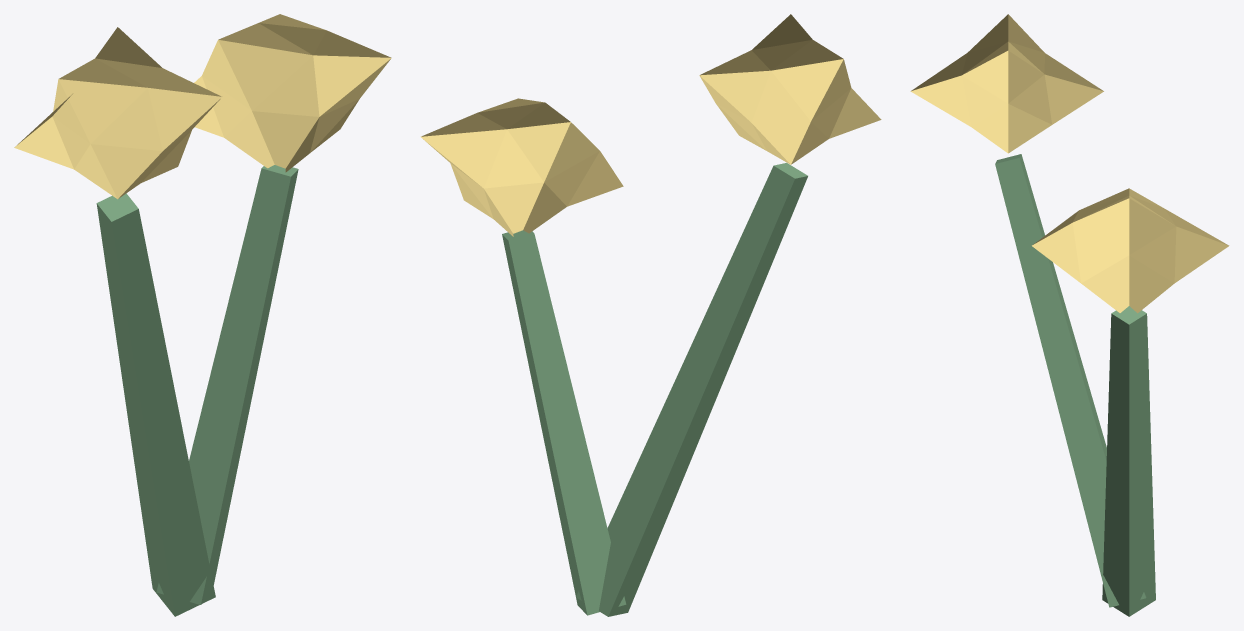
Rendered from flower_v20.glb.
3 renders of one model, left to right at view 1: azimuth 30°, elevation 25°; view 2: azimuth 150°, elevation 25°; view 3: azimuth 270°, elevation 25°, orthographic. The views are drawn at different scales.
Parts seen in each view (by area): view 1: lod0; view 2: lod0; view 3: lod0.
Boxes of the visible parts, x1,y1,x2,y2 form: lod0: (14, 14, 391, 616); lod0: (420, 14, 881, 616); lod0: (910, 14, 1229, 616).
Size of what is drawn, in the model's own units: 0.2834 by 0.3992 by 0.214.
